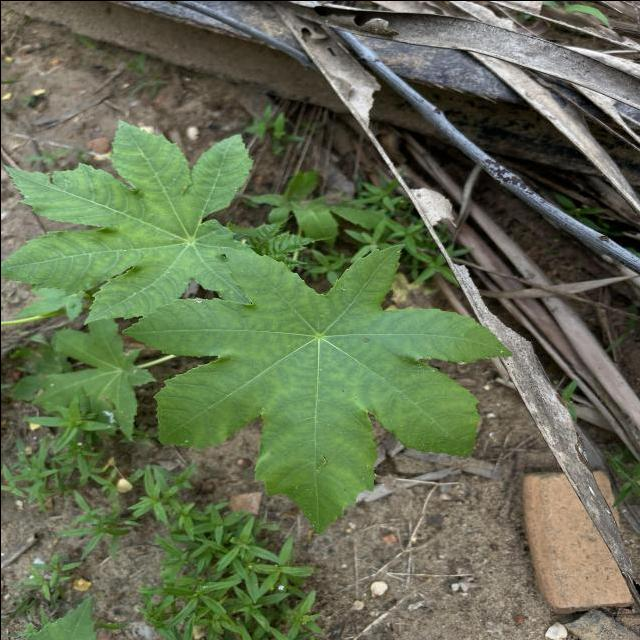Ricinus communis linn: (116, 237, 520, 538), (0, 114, 262, 328)
